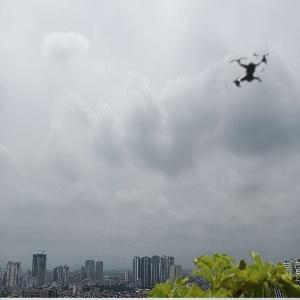drone: (209, 29, 292, 112)
